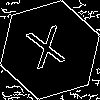X: (25, 25, 71, 79)
